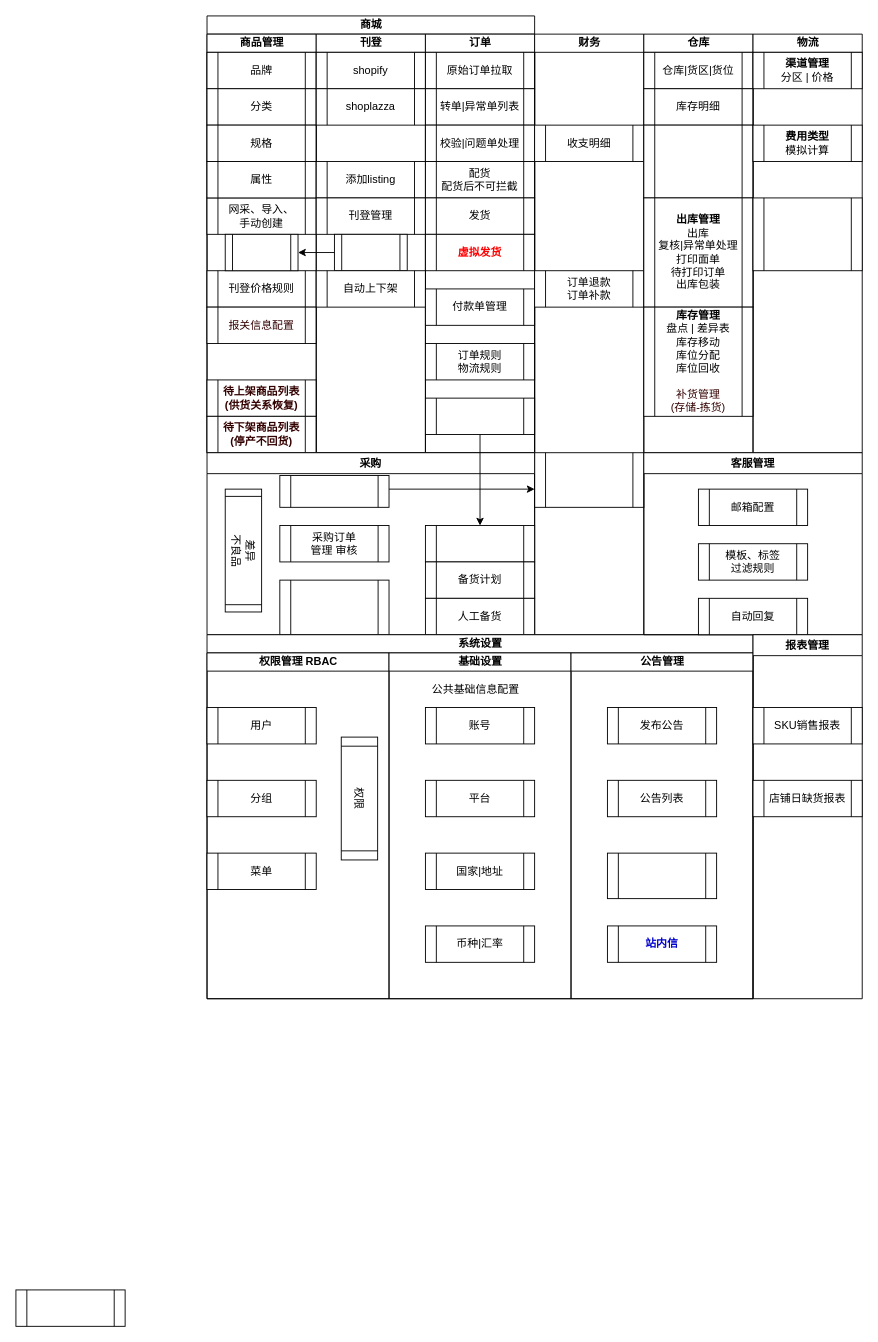
This 878x1342 diagram has some shape labels left out. The shapes that lost their labels are listed below. From the top down, each one's centre as x and y in pixels, then its label:
the point at 698,161: 入库管理 收货 质检 打印货品标签 上架管理
the point at 261,252: 单项同步
the point at 370,252: 在线listing
the point at 807,234: 物流管理 服务商列表 用户-渠道 列表 基础物流渠道
the point at 480,416: 缺货产品列表
the point at 334,491: 财务付款
the point at 589,479: 付款审批
the point at 480,543: 采购需求
the point at 334,607: 供货管理 供应商、采购员 sku-供货关系
the point at 662,875: 工作台 待处理的任务数 任务到期时间
the point at 70,1307: 各仓库独立 不调货
